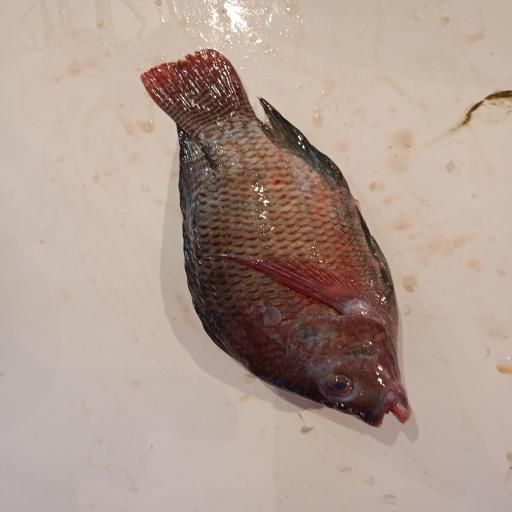Tilapia: (139, 48, 412, 428)
